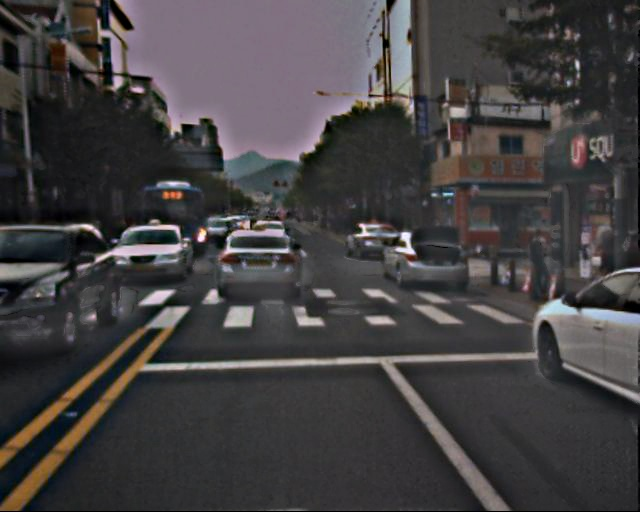person: (525, 231, 554, 301), (594, 220, 622, 288), (620, 234, 640, 300)
